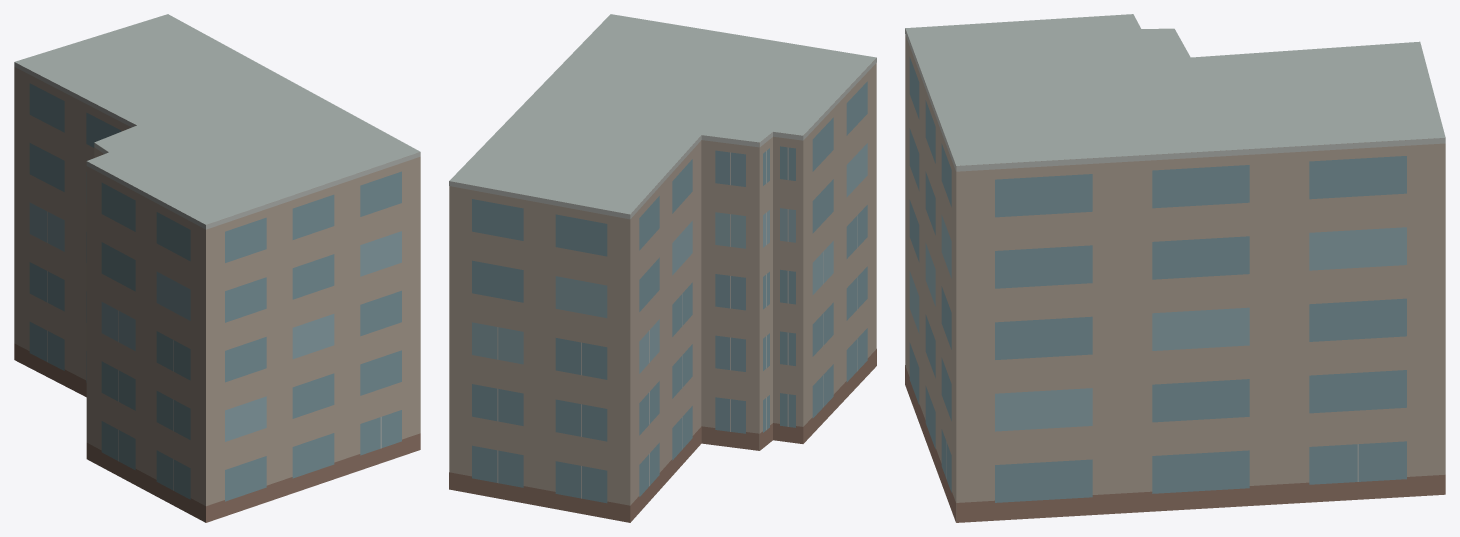
Rendered from survey-upis-32699010.glb.
The picture shows the model from 3 angles, left to right: view 1: azimuth 30°, elevation 25°; view 2: azimuth 150°, elevation 25°; view 3: azimuth 270°, elevation 25°; orthographic projection. The views are drawn at different scales.
Visible parts, largest first — view 1: survey-upis-32699010.tmp; view 2: survey-upis-32699010.tmp; view 3: survey-upis-32699010.tmp.
Boxes of the visible parts, x1,y1,x2,y2 form: survey-upis-32699010.tmp: [14, 14, 420, 522]; survey-upis-32699010.tmp: [449, 14, 876, 522]; survey-upis-32699010.tmp: [905, 14, 1445, 522].
Size of the model in its own units: 13.94 by 15.25 by 20.94.
